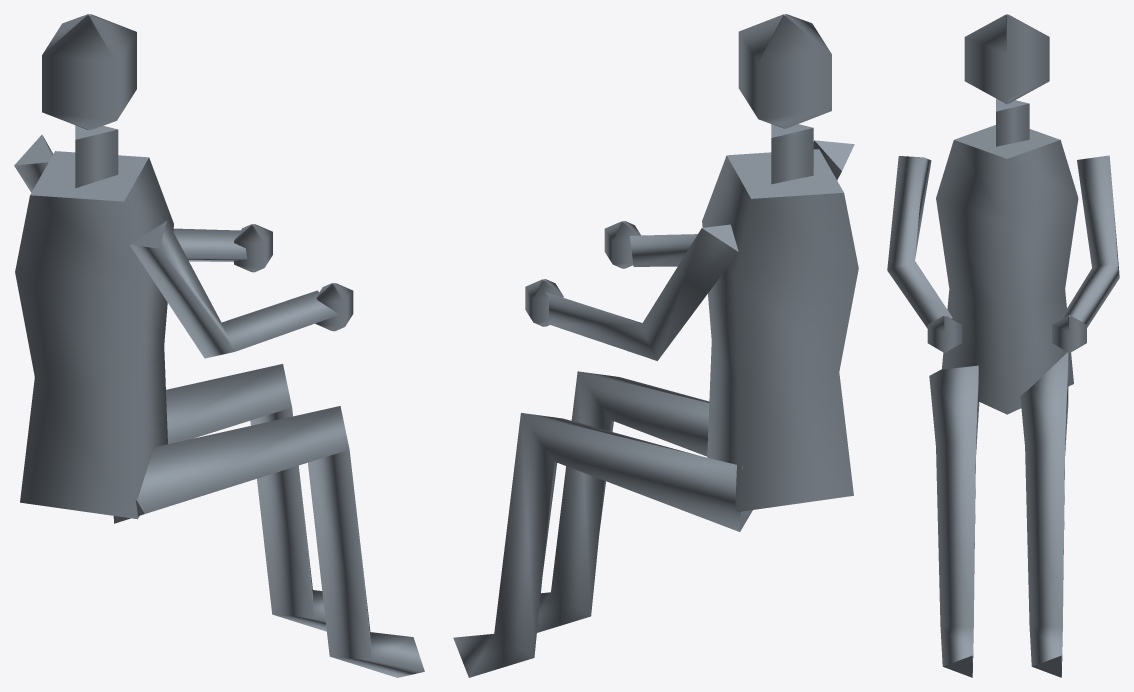
Rendered from stand-in.far.glb.
The picture shows the model from 3 angles, left to right: view 1: azimuth 30°, elevation 25°; view 2: azimuth 150°, elevation 25°; view 3: azimuth 270°, elevation 25°; orthographic projection. The views are drawn at different scales.
Visible parts, largest first — view 1: body, arm-right, head, arm-left; view 2: body, arm-left, head, arm-right; view 3: body, arm-right, arm-left, head.
Part boxes in pixels (x1,y1,x2,y2): body: [15, 125, 424, 677]; arm-right: [130, 221, 353, 358]; head: [42, 14, 136, 130]; arm-left: [14, 134, 272, 272]; body: [453, 124, 858, 677]; arm-left: [525, 224, 738, 360]; head: [738, 14, 831, 128]; arm-right: [604, 140, 854, 268]; body: [929, 98, 1078, 677]; arm-right: [887, 156, 962, 352]; arm-left: [1052, 155, 1119, 352]; head: [964, 14, 1049, 104].
Bounding box in the file's own units: 0.7559 × 1.38 × 0.5222.
